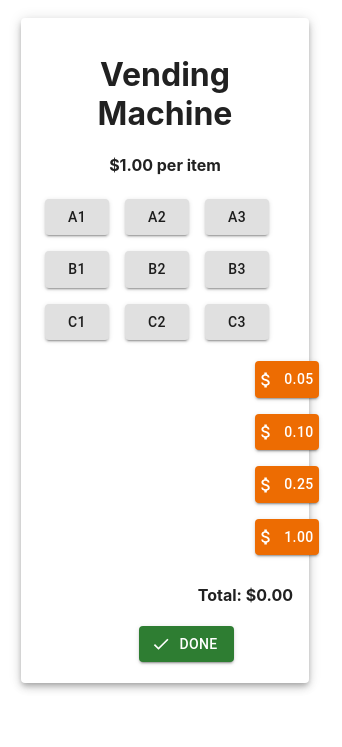
Scenario: vending machine component › should assert that tokens are being passed to the purchase function
Click the button named "$0.05": click(287, 380) [255,362,319,398]
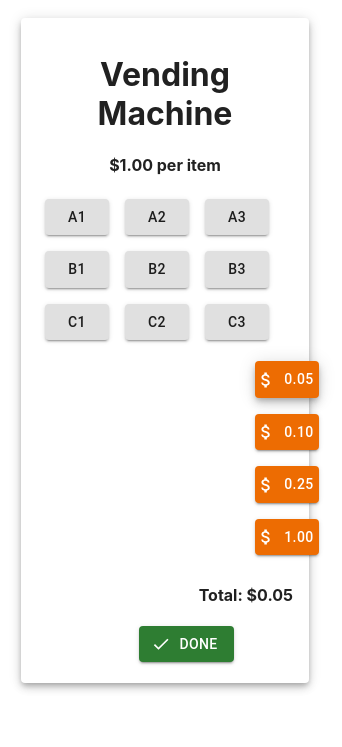
Click the button named "Mountain Dew": click(77, 217) [45,199,109,235]
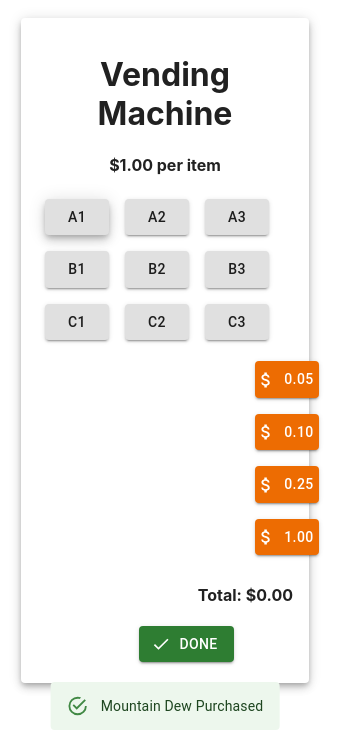
Now the text "Mountain Dew Purchased" is shown, box [101,698,263,714]
